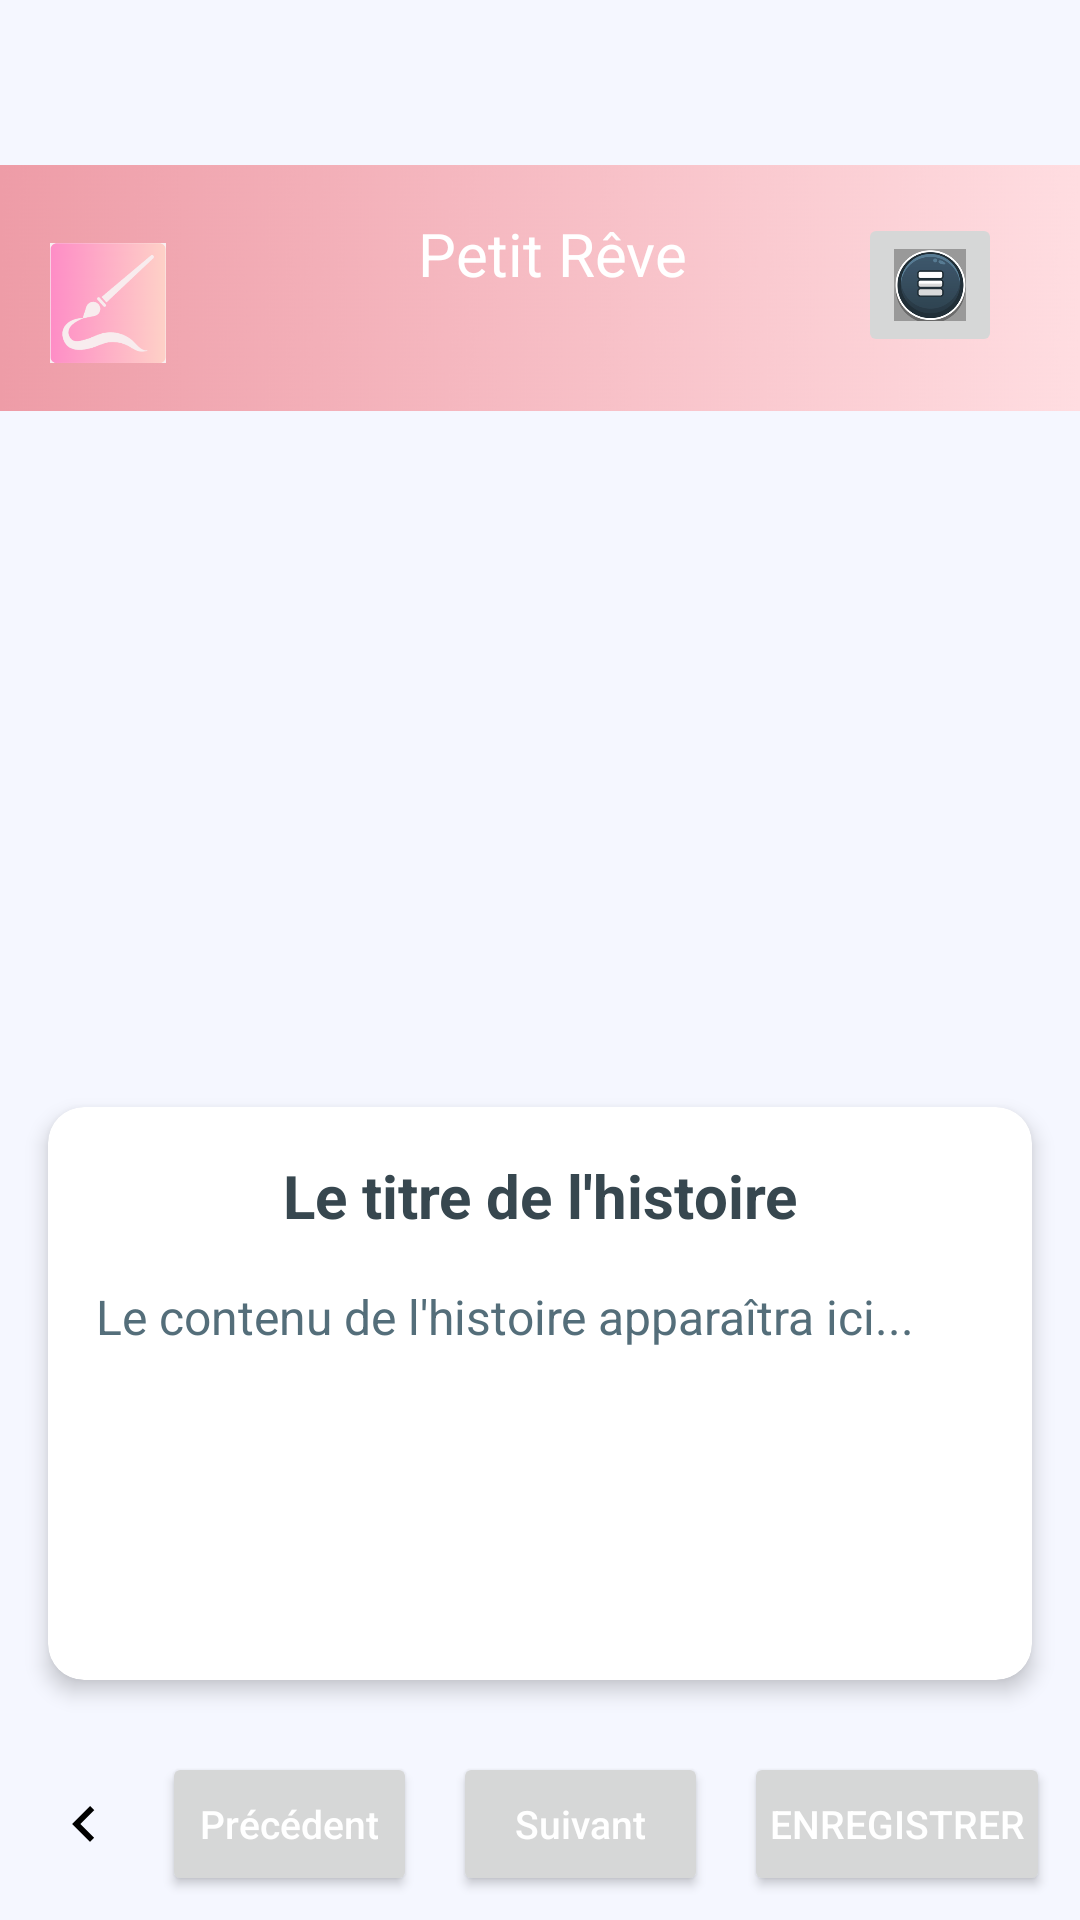

Point at icon controls on the screen. Image size 1080×1920, points as (x=x, y=y).
Menu Button: (x=930, y=285)
Retour: (x=83, y=1824)
